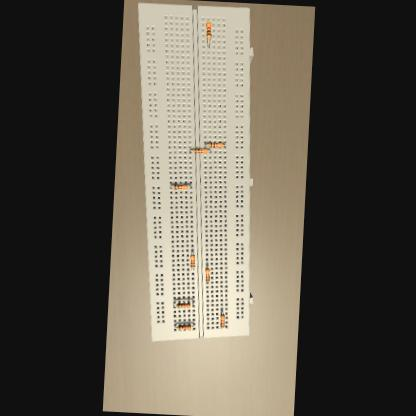breadboard: (120, 1, 268, 345)
resistor: (176, 300, 190, 308), (206, 21, 212, 39), (178, 322, 190, 330), (188, 252, 194, 266), (192, 146, 206, 152), (204, 267, 210, 281), (208, 141, 222, 147), (172, 183, 186, 188), (219, 313, 224, 327)
wire: (173, 300, 175, 304), (190, 299, 192, 303), (191, 322, 193, 326), (207, 38, 208, 46), (174, 323, 176, 326), (204, 144, 207, 146), (221, 307, 222, 313), (190, 149, 192, 151), (207, 150, 209, 152), (223, 143, 224, 146), (168, 186, 172, 186), (186, 186, 190, 186), (206, 262, 206, 266)
